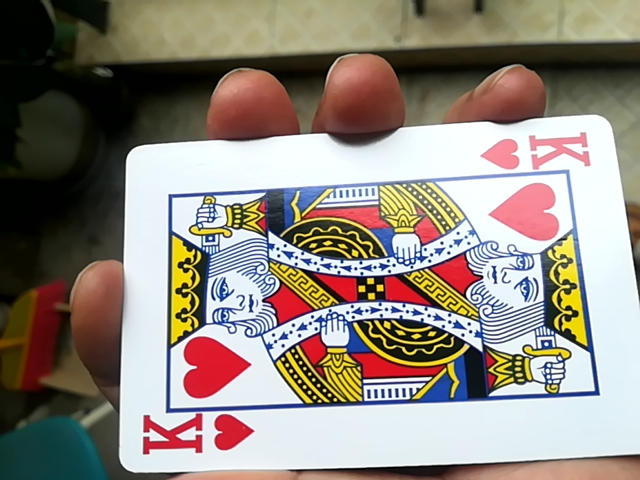hx k: (113, 124, 636, 477)
